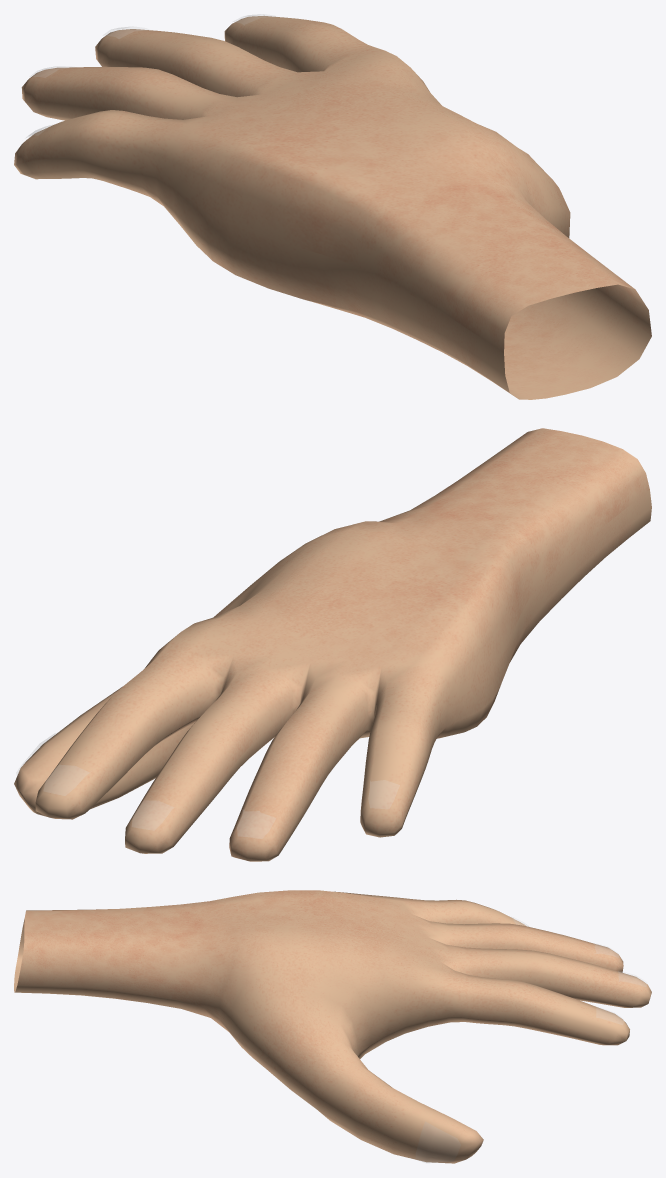
File: Hand.fbx
3 views of the same model, one above another, from view 1: azimuth 30°, elevation 25°; view 2: azimuth 150°, elevation 25°; view 3: azimuth 270°, elevation 25° (orthographic). The views are drawn at different scales.
Parts seen in each view (by area): view 1: Hand1; view 2: Hand1; view 3: Hand1.
Boxes of the visible parts, x1,y1,x2,y2 form: Hand1: (14, 14, 651, 399); Hand1: (14, 428, 651, 861); Hand1: (14, 890, 651, 1163).
Bounding box in the file's own units: 9.82 × 5.13 × 17.61.
